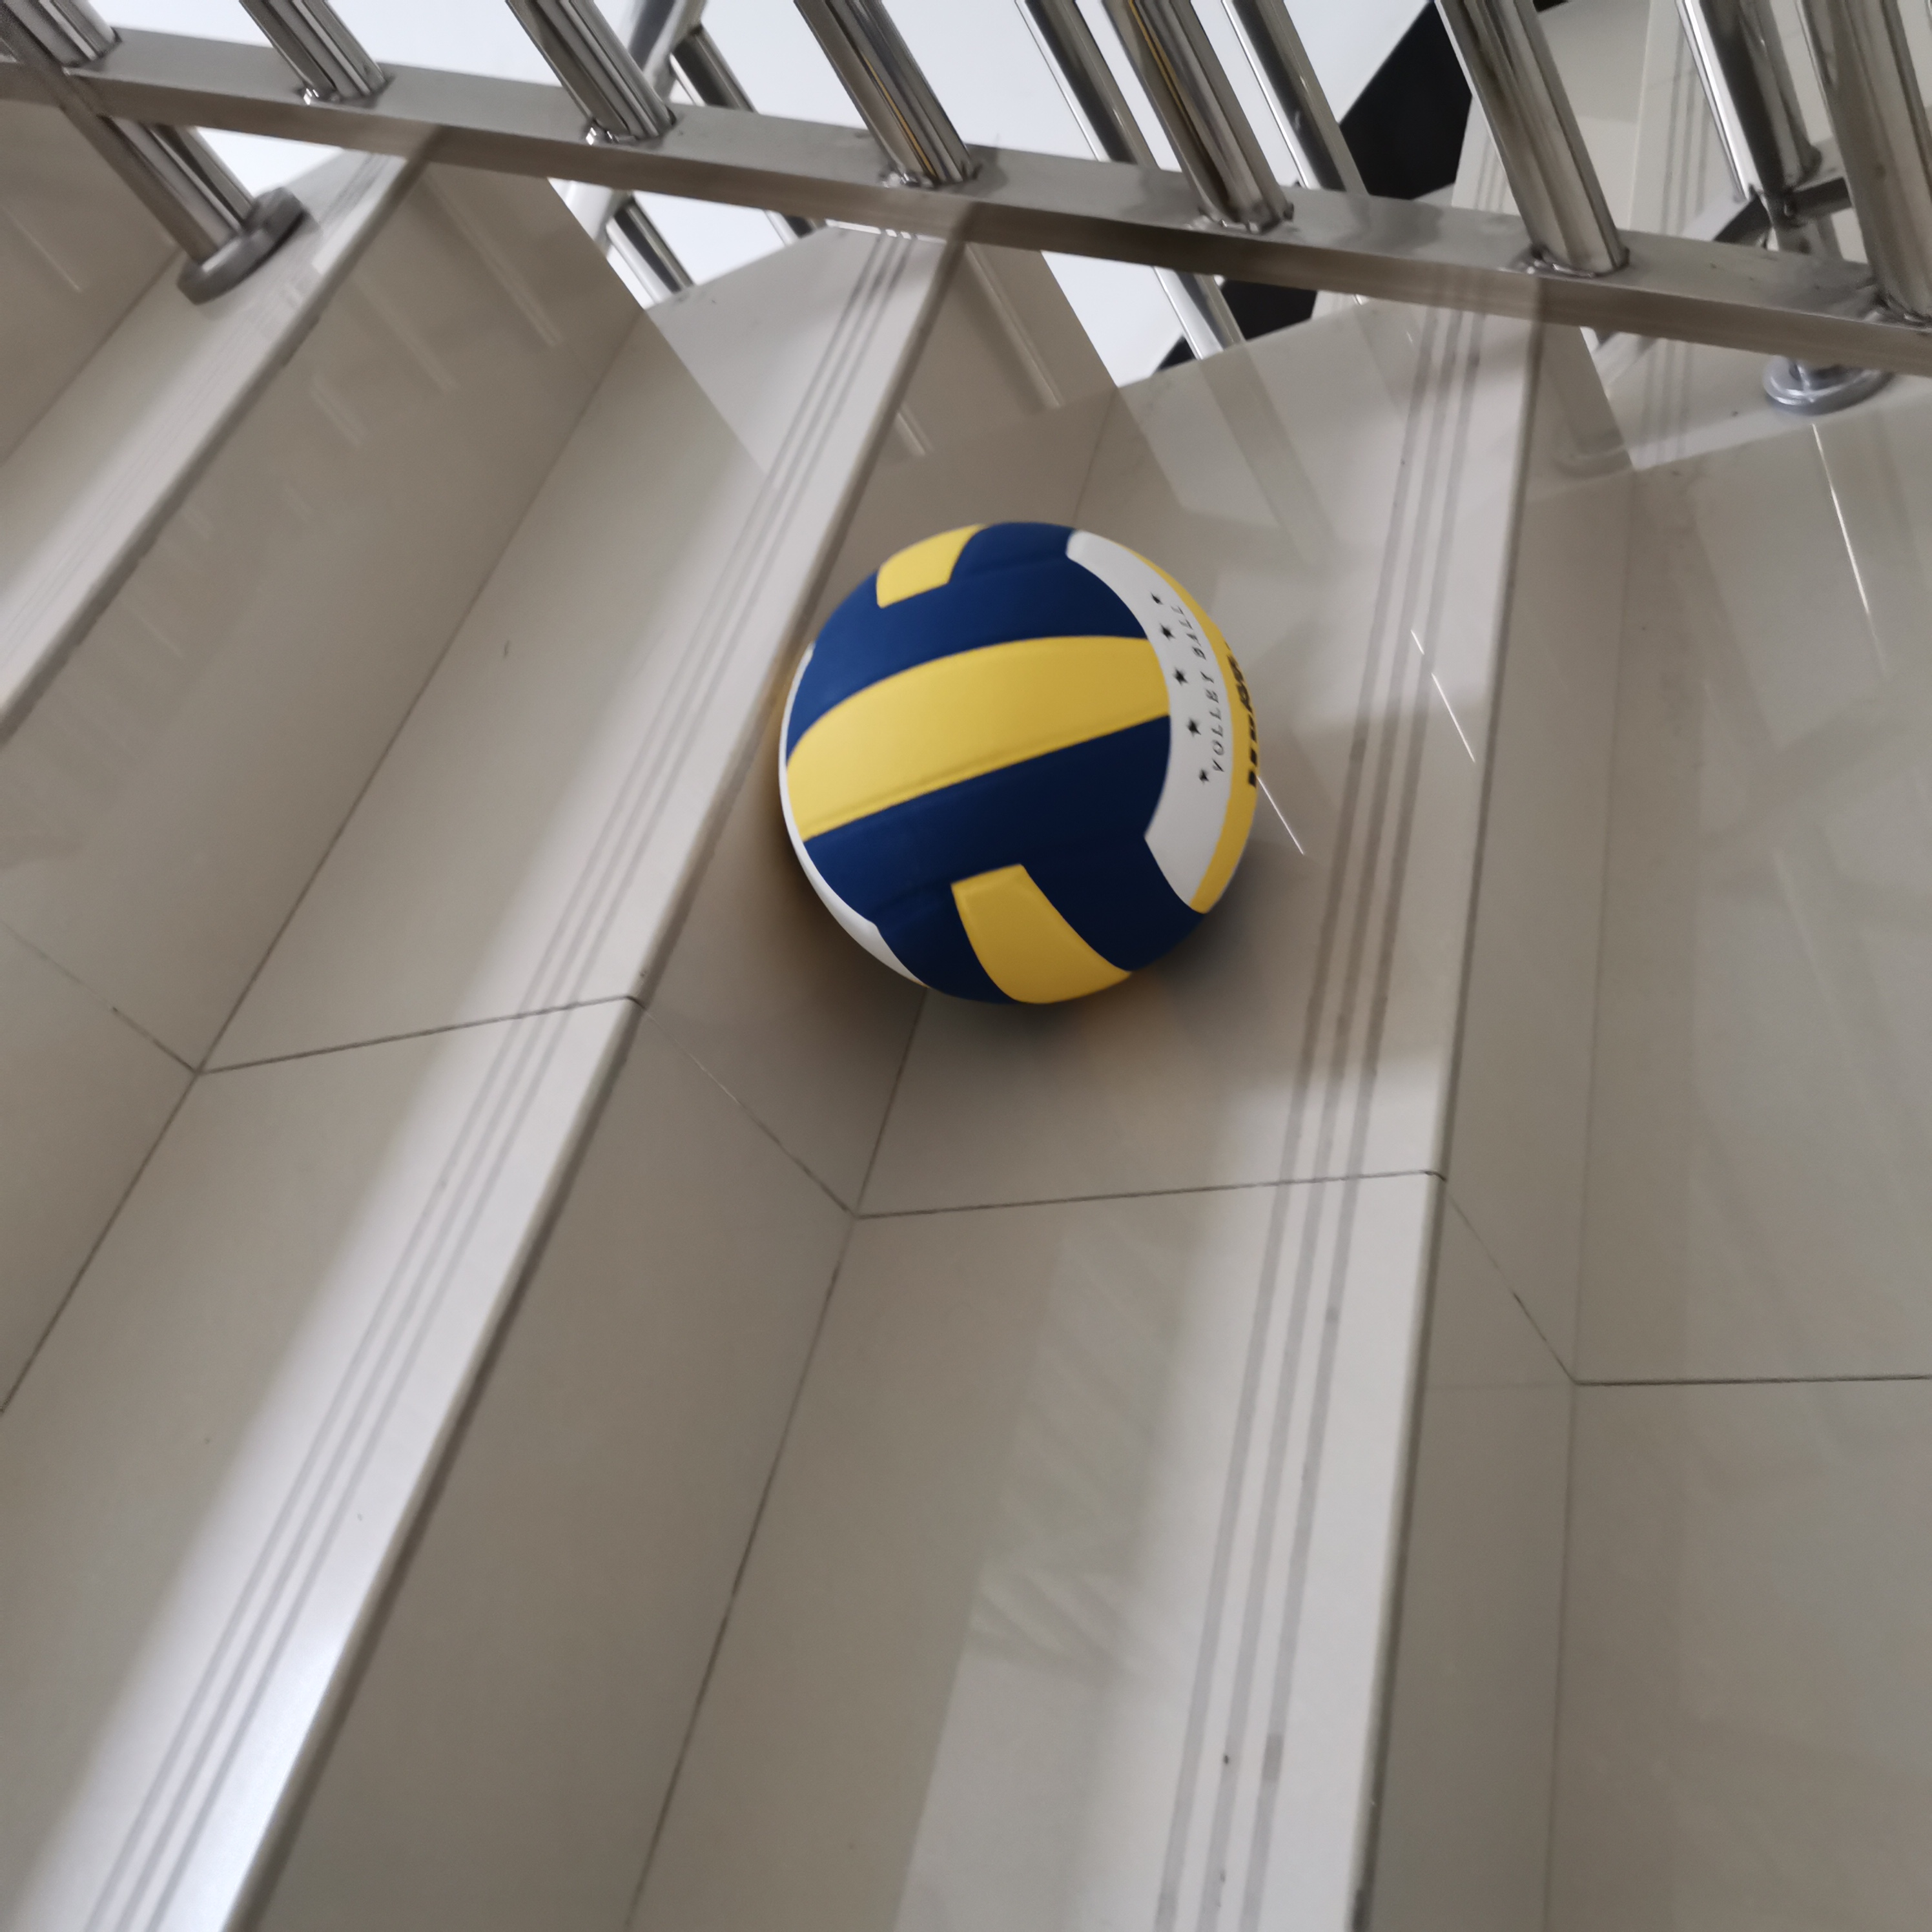volleyball: (780, 518, 1260, 1012)
